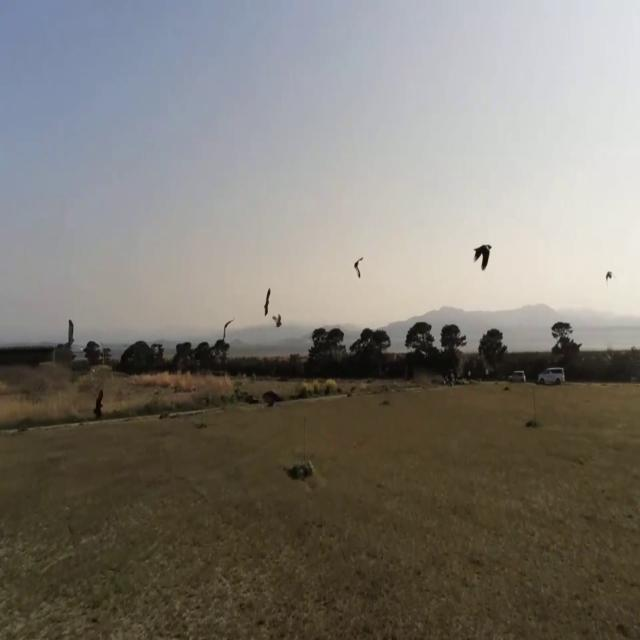bird: (474, 234, 492, 276), (93, 380, 104, 424), (263, 280, 272, 319), (353, 250, 363, 280), (605, 265, 613, 287), (275, 308, 281, 329)
